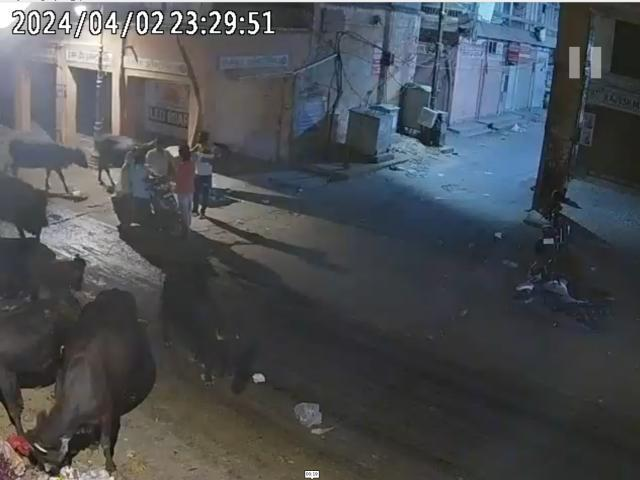cattle: (25, 288, 154, 476), (158, 260, 240, 386), (5, 138, 86, 194), (0, 167, 55, 241), (96, 135, 163, 179)
motorbike: (508, 255, 616, 336), (539, 189, 571, 266)
person: (192, 128, 218, 220)
scooty-rider: (108, 154, 187, 240)
